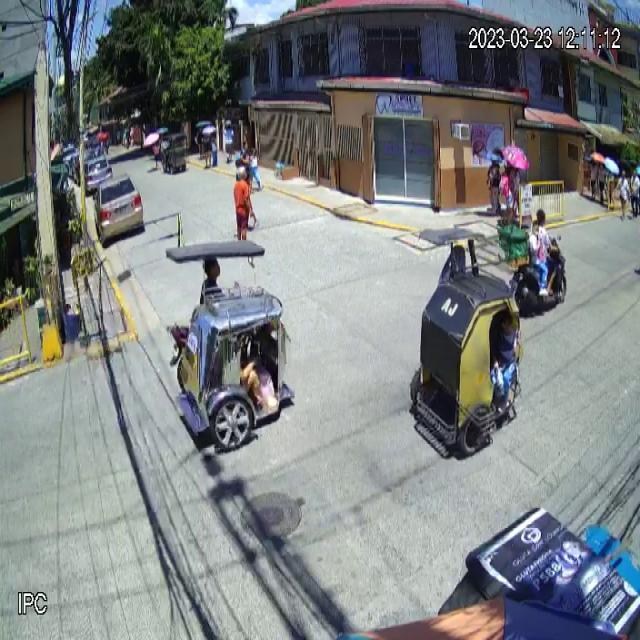Tricycle: (165, 239, 296, 453)
